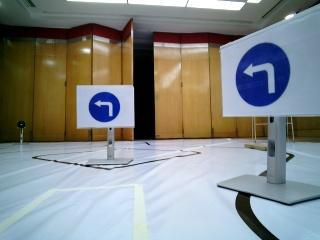left: (221, 40, 320, 106), (77, 86, 136, 128)
